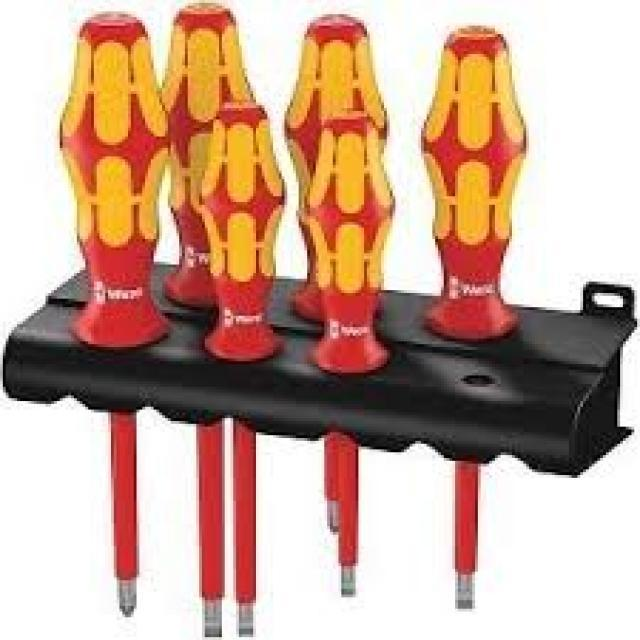screwdriver: (419, 19, 534, 622), (158, 0, 263, 631), (280, 1, 394, 534), (56, 8, 150, 634), (198, 99, 288, 632), (312, 111, 396, 600)
